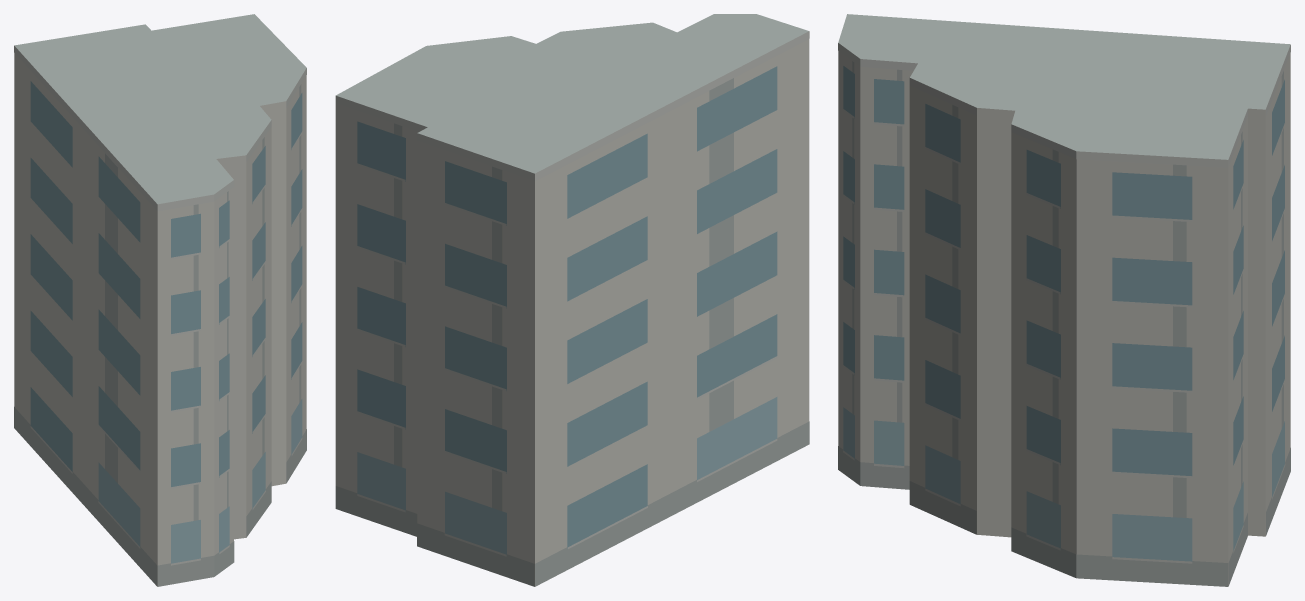
The model's file is survey-upis-32929818.glb.
The picture shows the model from 3 angles, left to right: view 1: azimuth 30°, elevation 25°; view 2: azimuth 150°, elevation 25°; view 3: azimuth 270°, elevation 25°; orthographic projection. The views are drawn at different scales.
Parts seen in each view (by area): view 1: survey-upis-32929818.tmp; view 2: survey-upis-32929818.tmp; view 3: survey-upis-32929818.tmp.
Part boxes in pixels (box(x1,y1,x2,y2)): survey-upis-32929818.tmp: box(14, 14, 306, 586); survey-upis-32929818.tmp: box(335, 14, 809, 586); survey-upis-32929818.tmp: box(838, 14, 1290, 586).
Bounding box in the file's own units: 9.68 × 13.2 × 12.69.
